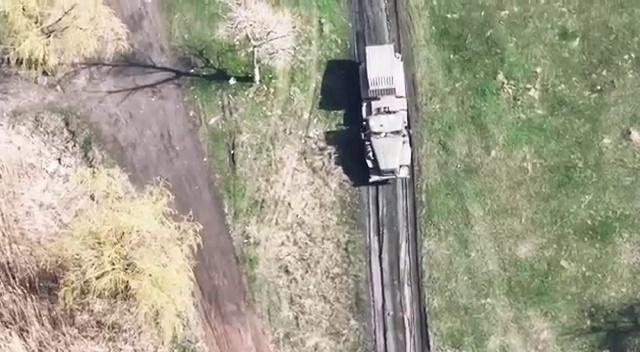vehicle: (358, 46, 410, 182)
